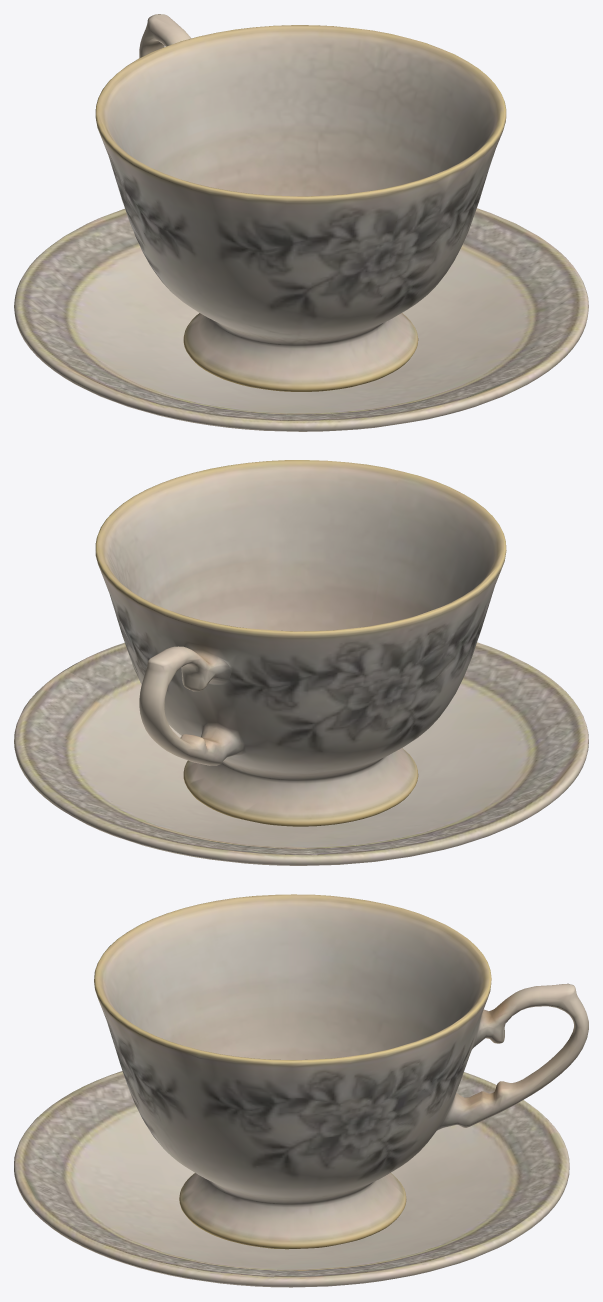
Rendered from teetasse.glb.
3 views of the same model, one above another, from view 1: azimuth 30°, elevation 25°; view 2: azimuth 150°, elevation 25°; view 3: azimuth 270°, elevation 25° (orthographic). The views are drawn at different scales.
Parts seen in each view (by area): view 1: tea_cup, tea_saucer; view 2: tea_cup, tea_saucer; view 3: tea_cup, tea_saucer.
Boxes of the visible parts, box(x1,y1,x2,y2) form: tea_cup: box(95, 14, 506, 391); tea_saucer: box(14, 208, 588, 431); tea_cup: box(95, 460, 506, 826); tea_saucer: box(14, 642, 588, 865); tea_cup: box(94, 894, 588, 1249); tea_saucer: box(14, 1071, 569, 1287).
Size of the model in its own units: 0.1486 by 0.0704 by 0.1536.
Materials: 2 (2 with a texture image).
